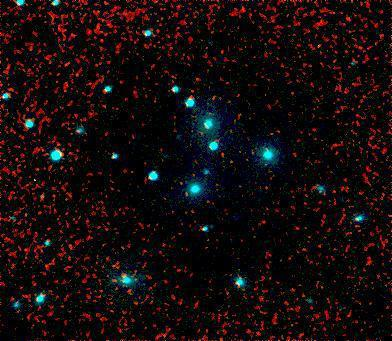star: (219, 199, 249, 229)
